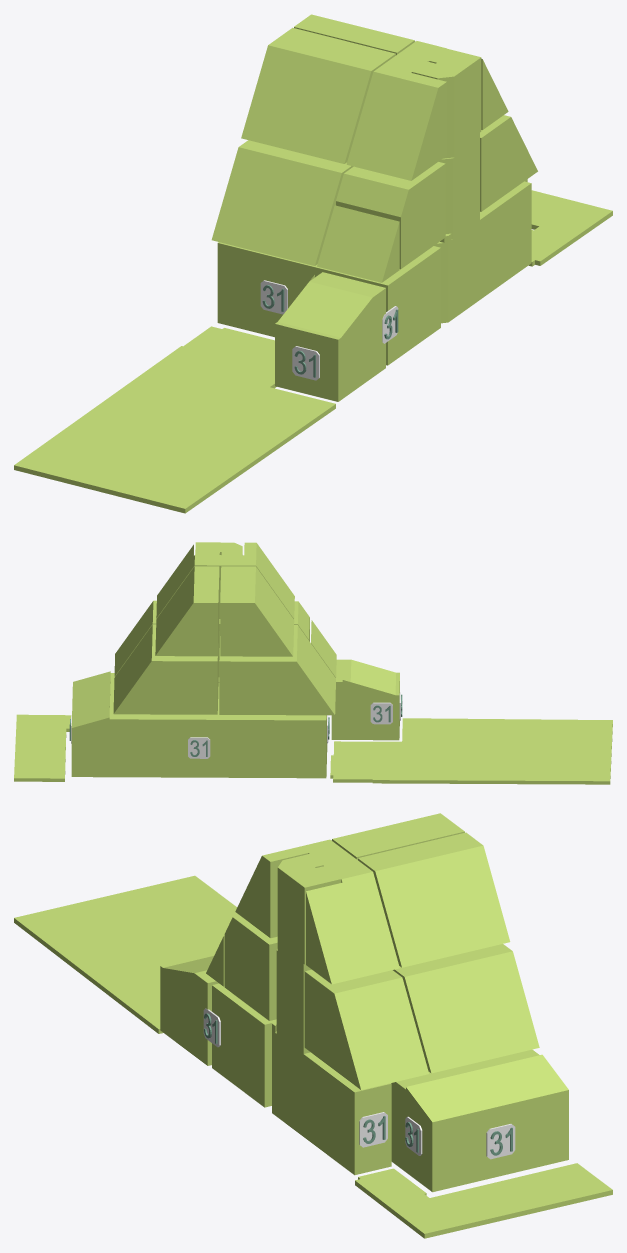
3 views of the same model, one above another, from view 1: azimuth 30°, elevation 25°; view 2: azimuth 150°, elevation 25°; view 3: azimuth 270°, elevation 25° (orthographic). The views are drawn at different scales.
Parts seen in each view (by area): view 1: g_17, g_10, g_7, g_15, g_5, g_0, g_6, g_16, g_2, g_14, g_18, g_4 (+4 smaller); view 2: g_17, g_1, g_7, g_8, g_10, g_0, g_11, g_5, g_18, g_15, g_9, g_16 (+4 smaller); view 3: g_1, g_17, g_11, g_8, g_15, g_9, g_18, g_2, g_0, g_5, g_6, g_14 (+5 smaller).
Boxes of the visible parts, left/top/right/bottom form: g_17: left=14, top=326, right=335, bottom=513; g_10: left=241, top=27, right=395, bottom=163; g_7: left=211, top=140, right=353, bottom=265; g_15: left=346, top=41, right=508, bottom=180; g_5: left=275, top=272, right=385, bottom=401; g_0: left=217, top=242, right=440, bottom=365; g_6: left=336, top=162, right=445, bottom=269; g_16: left=317, top=205, right=399, bottom=282; g_2: left=480, top=181, right=531, bottom=298; g_14: left=412, top=48, right=481, bottom=151; g_18: left=528, top=190, right=612, bottom=266; g_4: left=434, top=213, right=481, bottom=323; g_17: left=330, top=718, right=612, bottom=784; g_1: left=71, top=671, right=250, bottom=777; g_7: left=219, top=625, right=335, bottom=715; g_8: left=113, top=624, right=218, bottom=714; g_10: left=220, top=566, right=294, bottom=656; g_0: left=250, top=715, right=327, bottom=778; g_11: left=155, top=566, right=219, bottom=656; g_5: left=331, top=659, right=399, bottom=740; g_18: left=14, top=714, right=71, bottom=781; g_15: left=156, top=542, right=294, bottom=618; g_9: left=114, top=600, right=156, bottom=676; g_16: left=311, top=620, right=336, bottom=677; g_1: left=391, top=1049, right=568, bottom=1192; g_17: left=14, top=875, right=239, bottom=1033; g_11: left=358, top=832, right=510, bottom=967; g_8: left=393, top=944, right=539, bottom=1073; g_15: left=235, top=839, right=399, bottom=984; g_9: left=304, top=969, right=428, bottom=1089; g_18: left=355, top=1163, right=612, bottom=1238; g_2: left=305, top=1053, right=391, bottom=1175; g_0: left=212, top=983, right=276, bottom=1107; g_5: left=160, top=953, right=218, bottom=1065; g_6: left=224, top=915, right=277, bottom=1020; g_14: left=277, top=854, right=341, bottom=964.
Size of the model in its own units: 23.89 by 7.94 by 16.88.
